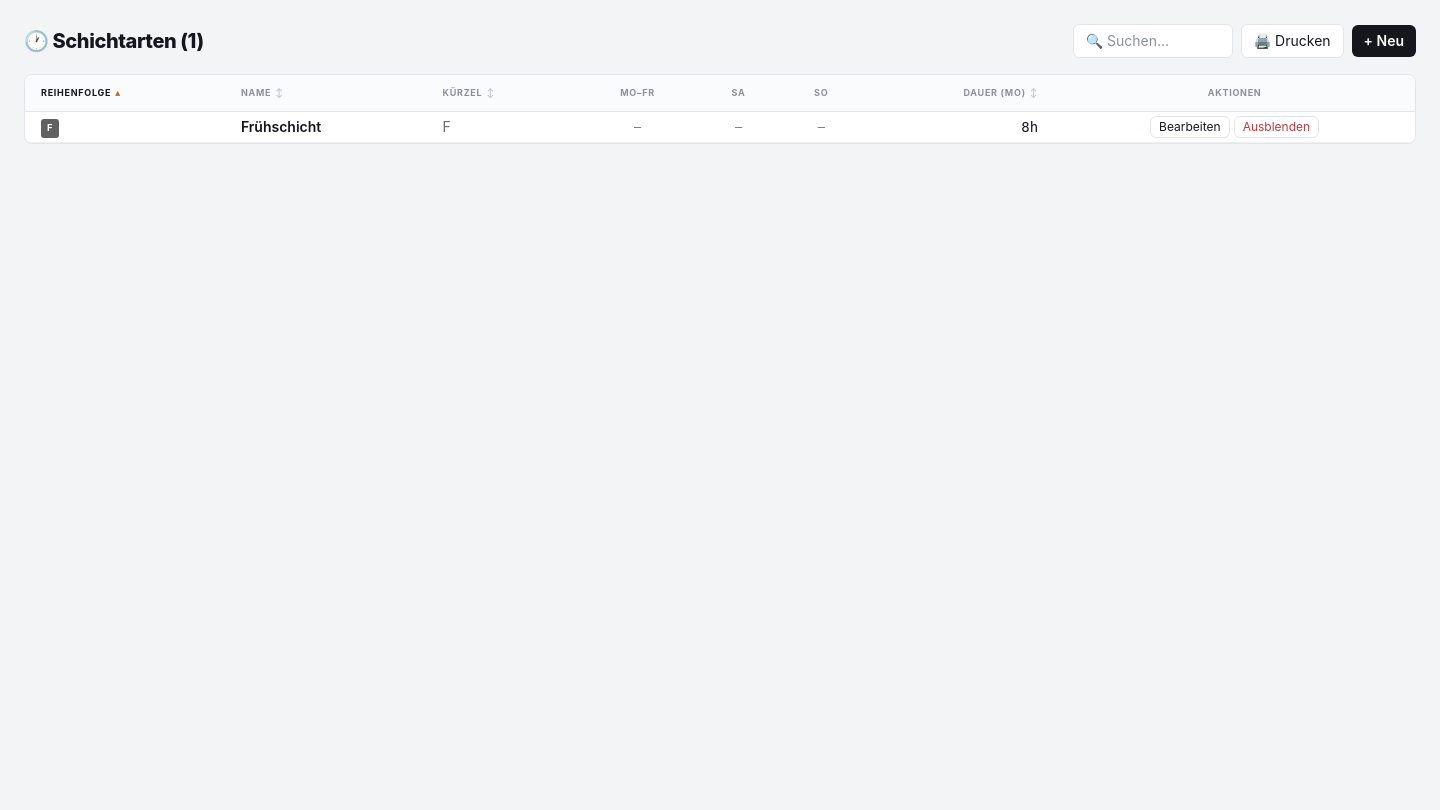
Test: Shifts Zeiten-Dialog (V-10) › lehnt ungültige Uhrzeiten ab
This screenshot has width=1440, height=810.
Check: the text "Frühschicht" is shown, box [225,112,426,142]
Step 1. Click the button "+ Neu" → (1384, 41), box [1352,25,1416,57]
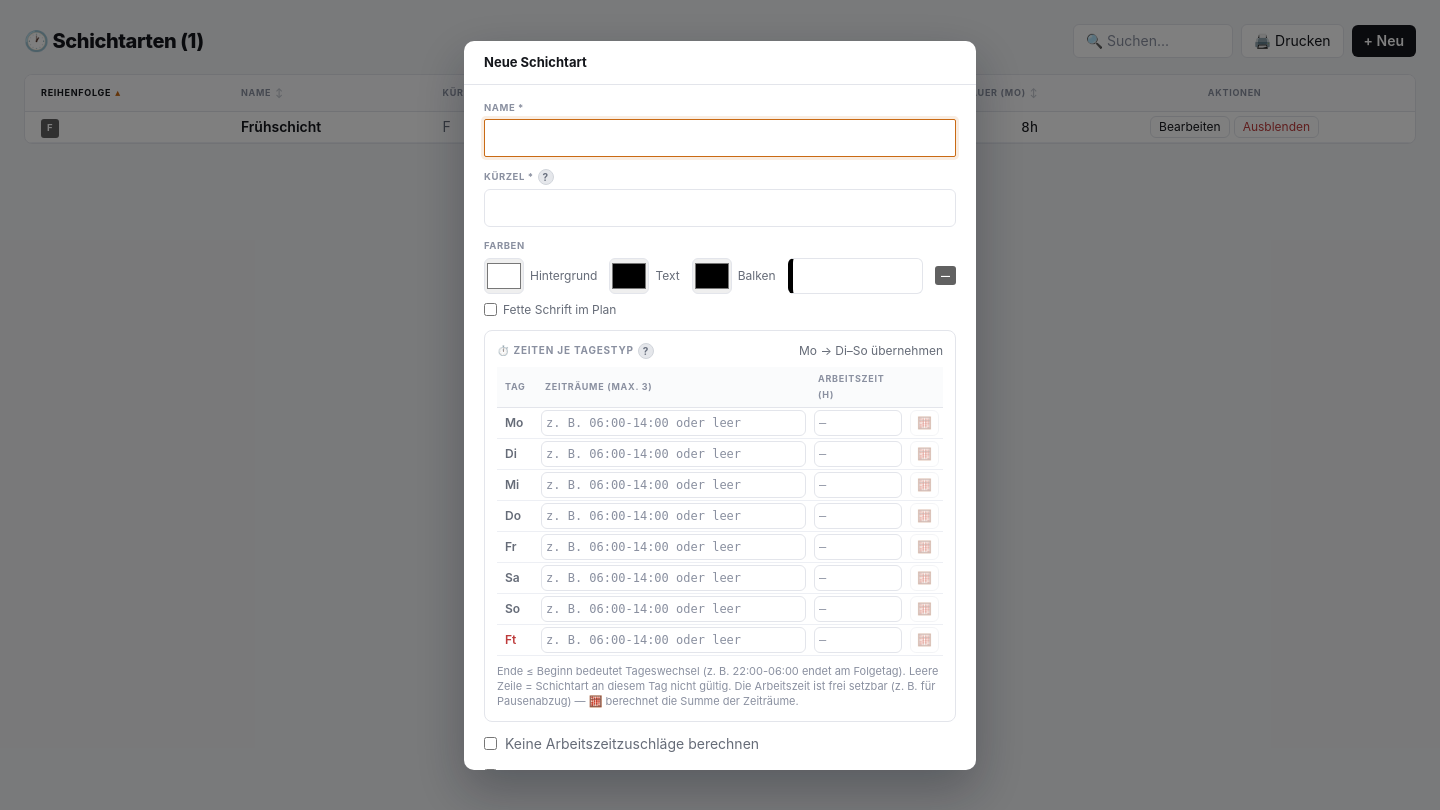
Check: the heading "Neue Schichtart" is shown, box [464,40,976,85]
Step 2. Type "Test" into the field named "Name" → (720, 138), box [484,119,956,157]
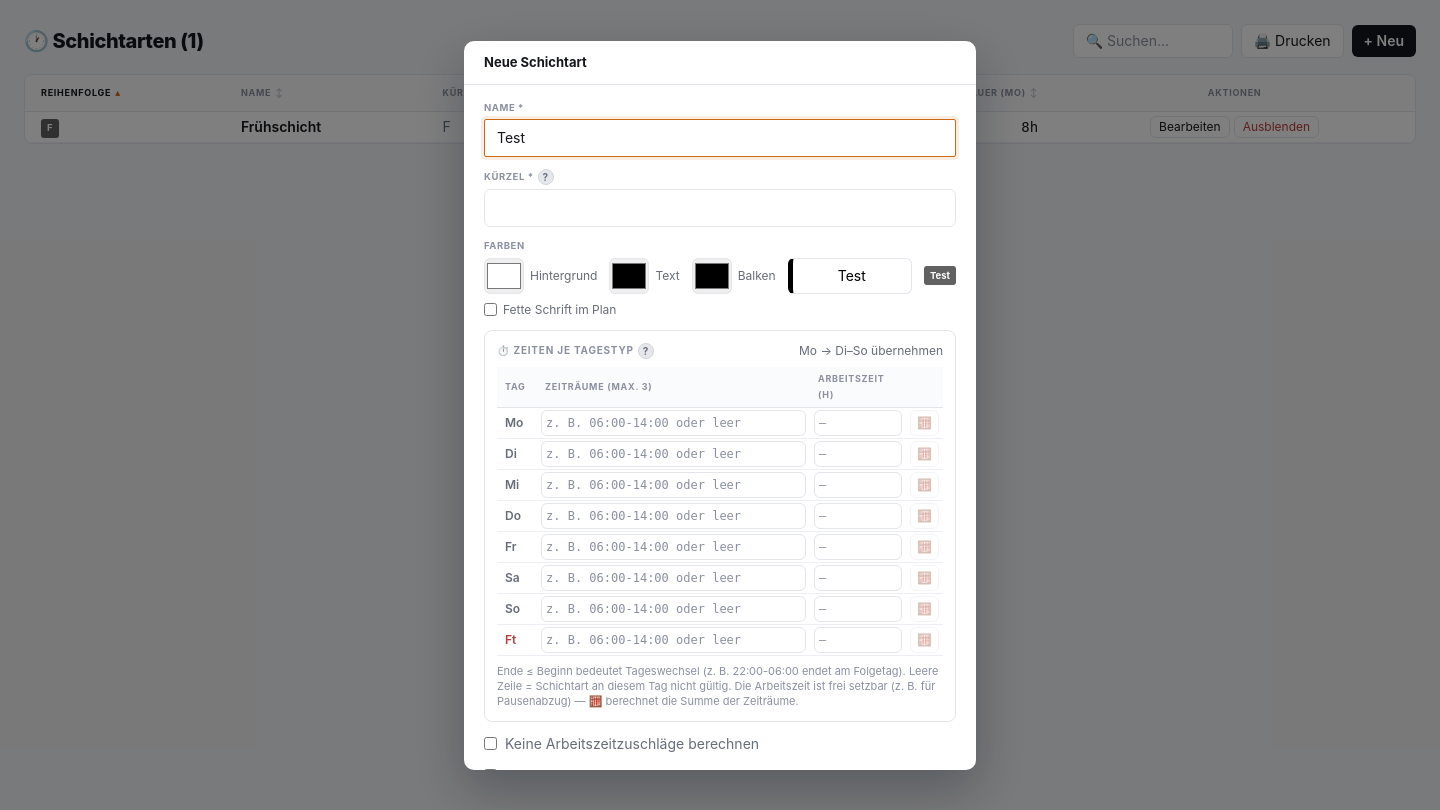
Step 3. Type "T" into the field named "Kürzel" → (720, 208), box [484,189,956,227]
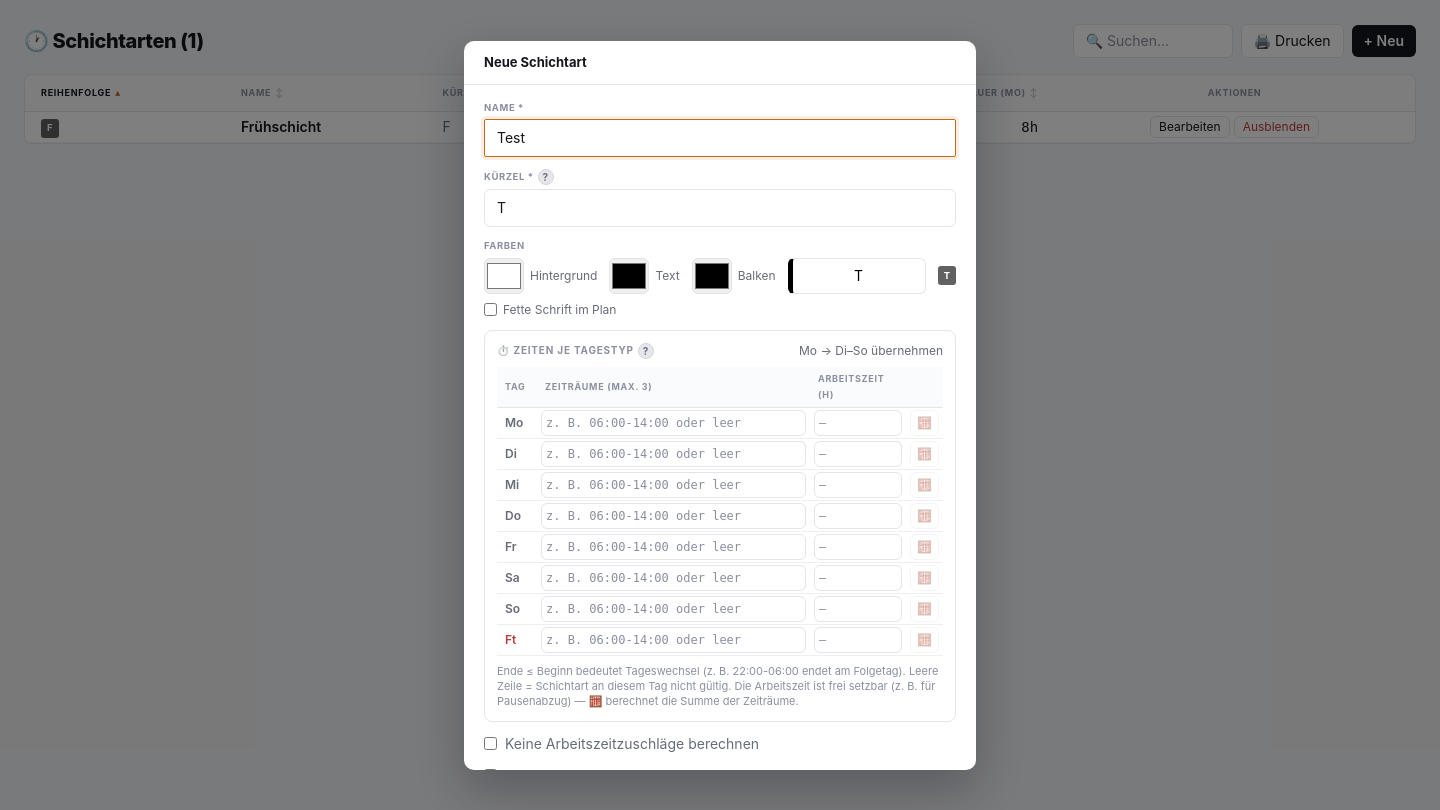
Step 4. Type "25:00-26:00" into the field named "Zeiträume Ft" → (674, 640), box [541,626,806,652]
(page scrolled)
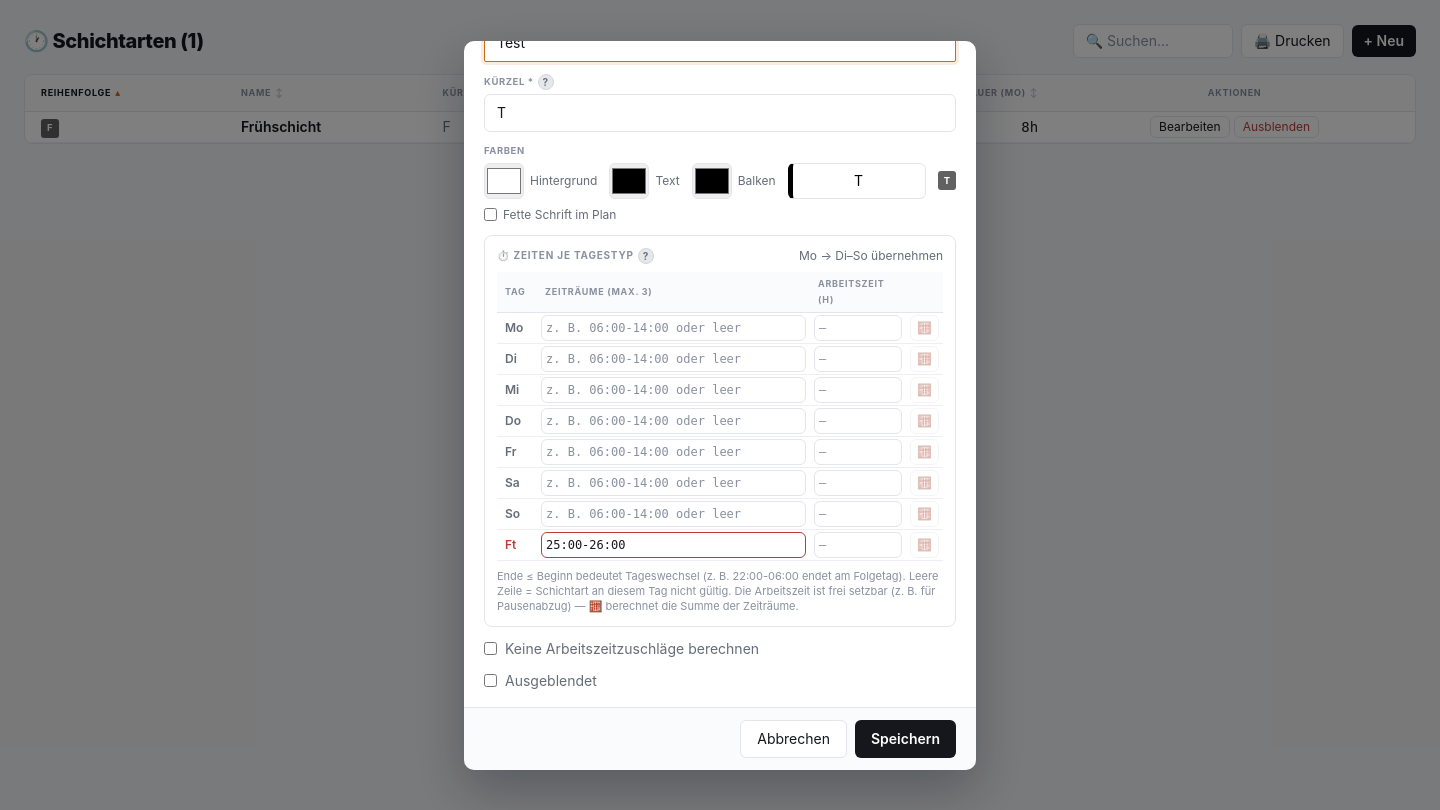
Step 5. Click the button "Speichern" → (905, 739), box [855,720,956,758]
(page scrolled)
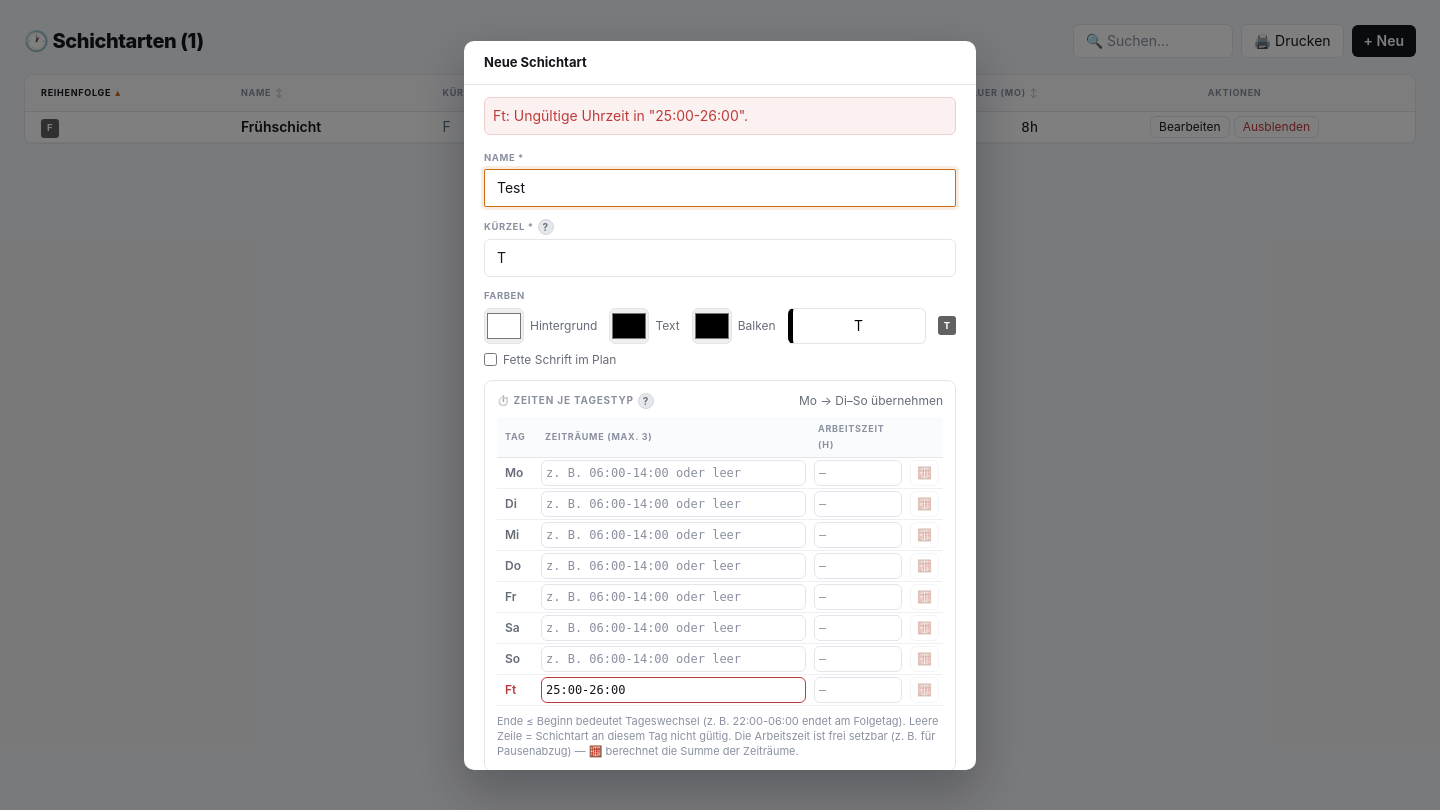
Check: the text "Ft: Ungültige Uhrzeit in \"25:00-26:00\"." is shown, box [484,97,956,135]
